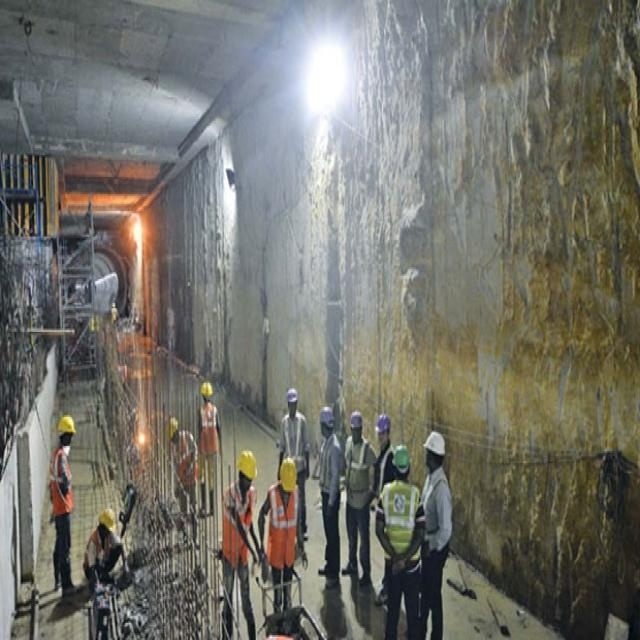Con_Casco: (237, 449, 257, 483), (58, 415, 76, 445)
Con_Chaleco: (380, 483, 420, 563), (223, 488, 254, 562), (269, 487, 298, 565), (48, 448, 76, 514)
